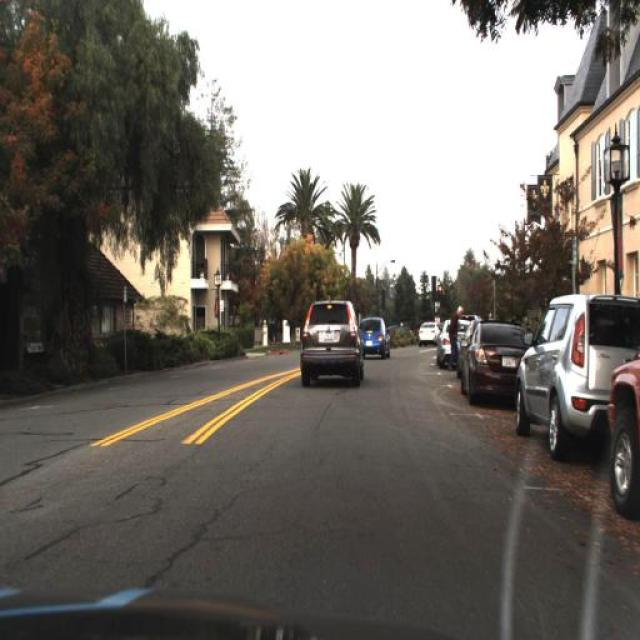car: (515, 290, 639, 455), (454, 317, 525, 414), (460, 320, 534, 404), (298, 299, 366, 383), (434, 316, 478, 373), (356, 313, 389, 359), (418, 320, 442, 345)
trafficLight: (444, 303, 466, 369)
